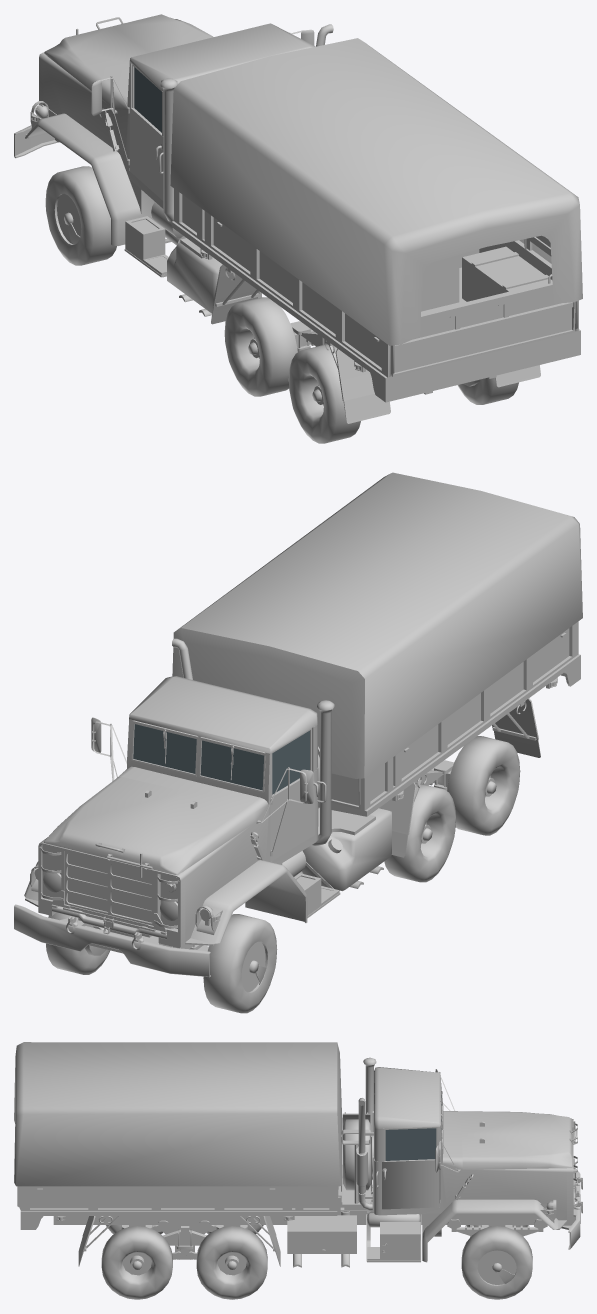
3 renders of one model, top to bottom at view 1: azimuth 30°, elevation 25°; view 2: azimuth 150°, elevation 25°; view 3: azimuth 270°, elevation 25°, orthographic. The views are drawn at different scales.
Parts seen in each view (by area): view 1: back_up, back, inside, under, wheel_LB00, wheel_LF, wheel_LB01, door_L, glass_L, wheel_RB01; view 2: back_up, inside, back, under, wheel_LB01, wheel_LF, glass, wheel_LB00, door_L, glass_L, wheel_RF; view 3: back_up, inside, back, under, wheel_RB00, wheel_RF, wheel_RB01, door_R, glass_R, wheel.
Boxes of the visible parts, box(x1,y1,x2,y2) form: back_up: box(170, 38, 582, 345); back: box(171, 188, 580, 423); inside: box(14, 14, 333, 245); under: box(55, 138, 496, 394); wheel_LB00: box(224, 297, 297, 396); wheel_LF: box(45, 166, 116, 265); wheel_LB01: box(288, 344, 360, 443); door_L: box(129, 65, 163, 200); glass_L: box(134, 67, 161, 132); wheel_RB01: box(457, 377, 518, 404); back_up: box(172, 472, 582, 778); inside: box(14, 638, 334, 977); back: box(318, 621, 580, 857); under: box(60, 760, 454, 953); wheel_LB01: box(447, 736, 520, 835); wheel_LF: box(203, 914, 277, 1013); glass: box(133, 724, 263, 790); wheel_LB00: box(384, 783, 455, 882); door_L: box(270, 728, 318, 861); glass_L: box(272, 730, 309, 794); wheel_RF: box(46, 912, 110, 974); back_up: box(14, 1042, 342, 1186); inside: box(341, 1057, 582, 1262); back: box(17, 1186, 338, 1266); under: box(53, 1165, 576, 1267); wheel_RB00: box(196, 1226, 267, 1299); wheel_RF: box(461, 1226, 532, 1299); wheel_RB01: box(101, 1226, 172, 1299); door_R: box(382, 1127, 440, 1209); glass_R: box(385, 1128, 436, 1160); wheel: box(343, 1119, 373, 1190).
Size of the model in its own units: 303 by 343 by 907.
